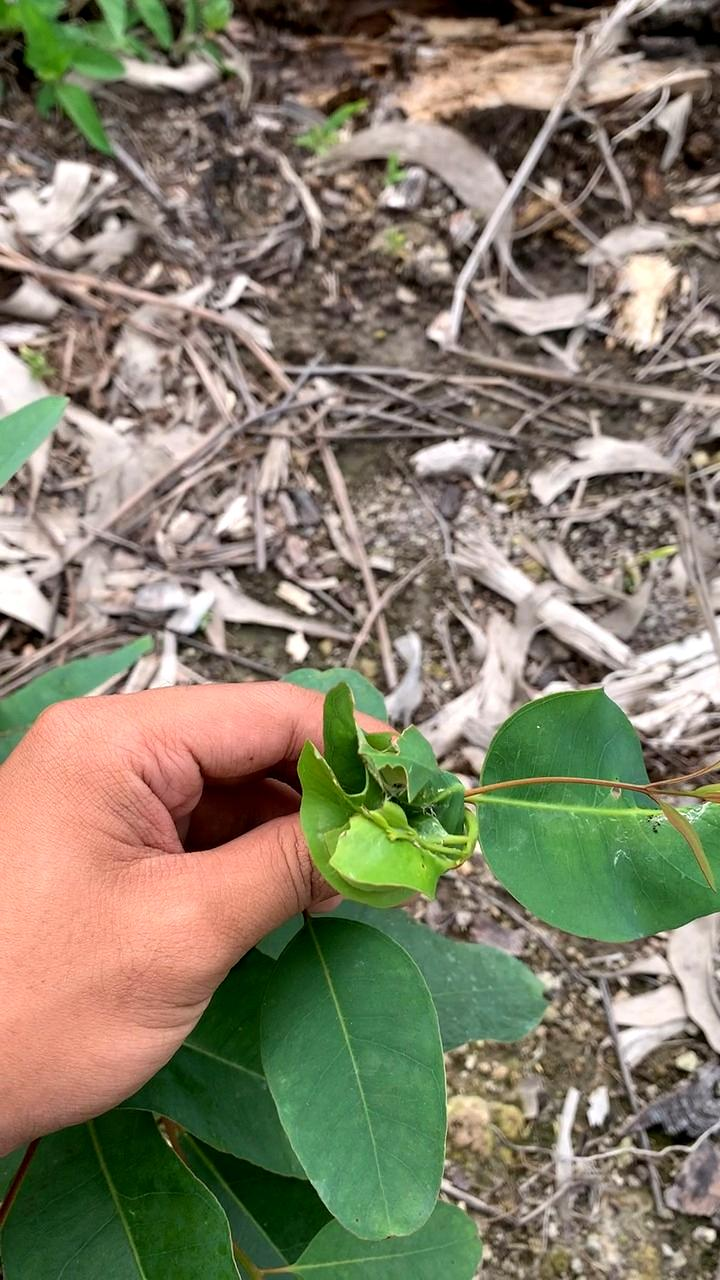Leaf Roller - Leaf: (288, 678, 479, 919)
